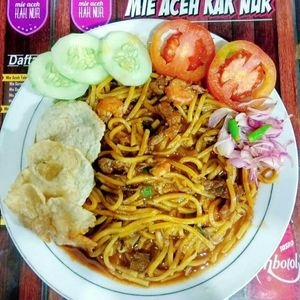mie_aceh: (79, 85, 251, 284)
